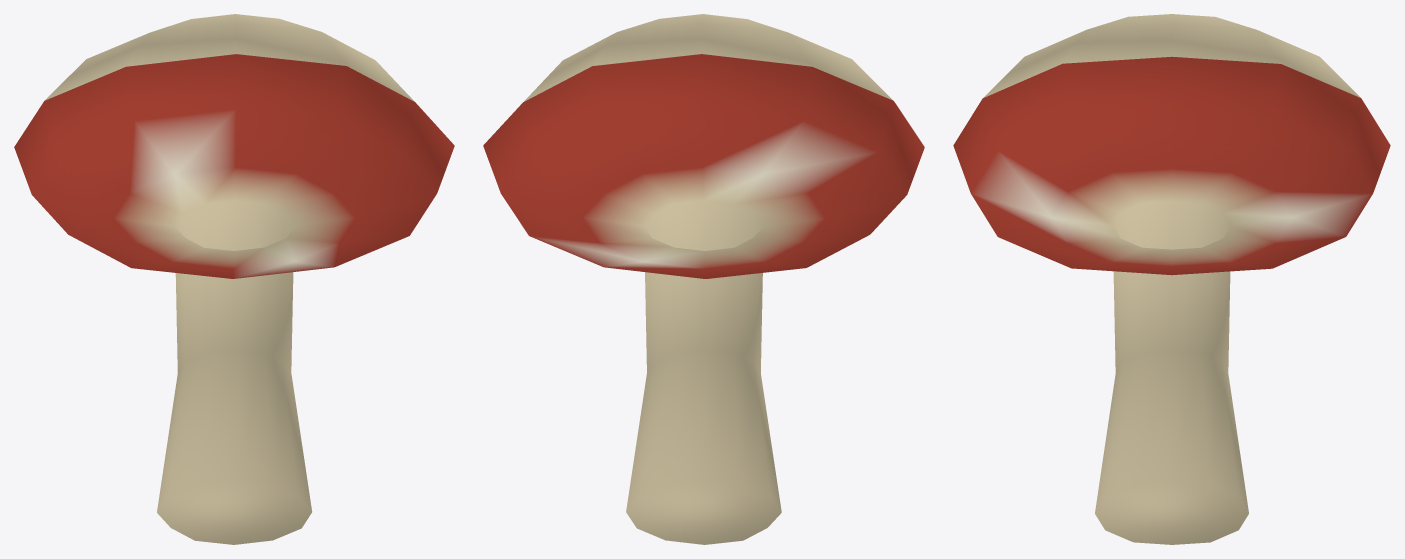
The model's file is bigshroom_0.glb.
3 renders of one model, left to right at view 1: azimuth 30°, elevation 25°; view 2: azimuth 150°, elevation 25°; view 3: azimuth 270°, elevation 25°, orthographic.
Parts seen in each view (by area): view 1: bigshroom_0; view 2: bigshroom_0; view 3: bigshroom_0.
Part boxes in pixels (bbox=[...]): bigshroom_0: bbox=[14, 14, 454, 544]; bigshroom_0: bbox=[483, 14, 924, 544]; bigshroom_0: bbox=[953, 14, 1390, 544].
Bounding box in the file's own units: 1.91 × 2.45 × 1.99.
